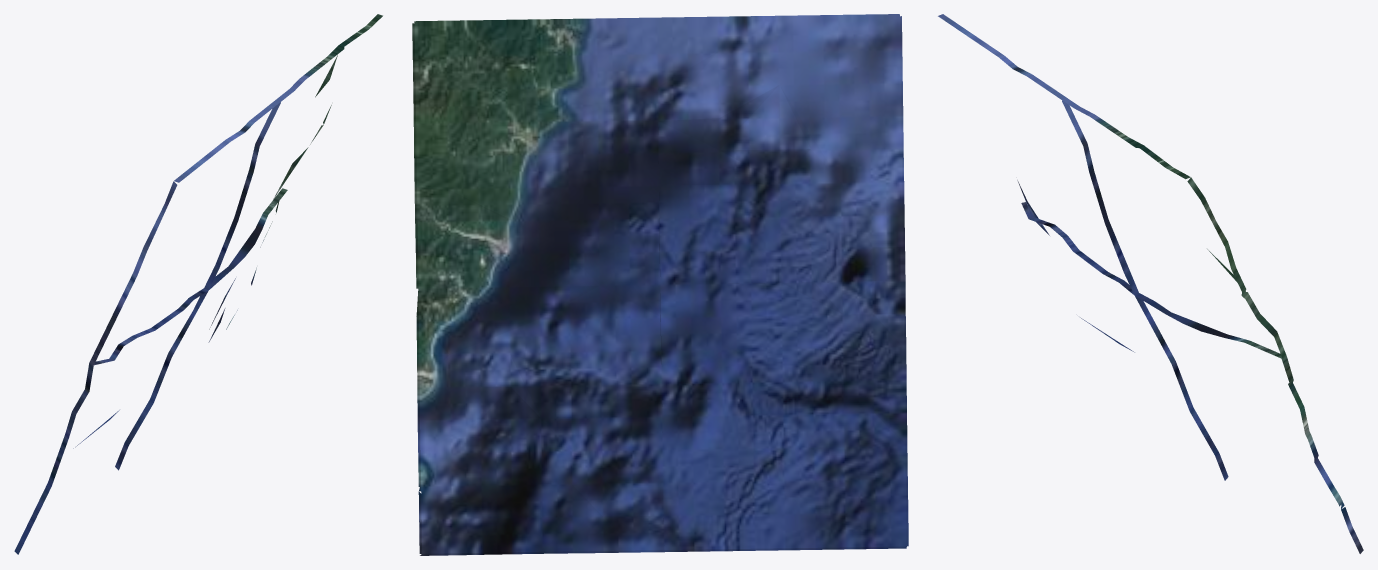
3 views of the same model, side by side, from view 1: azimuth 30°, elevation 25°; view 2: azimuth 150°, elevation 25°; view 3: azimuth 270°, elevation 25° (orthographic). The views are drawn at different scales.
Bounding box in the file's own units: 76646 × 73828 × 66108.
1 material, 1 textured.
